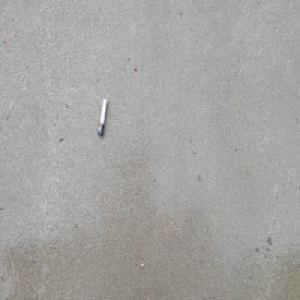Battery: (96, 97, 107, 138)
